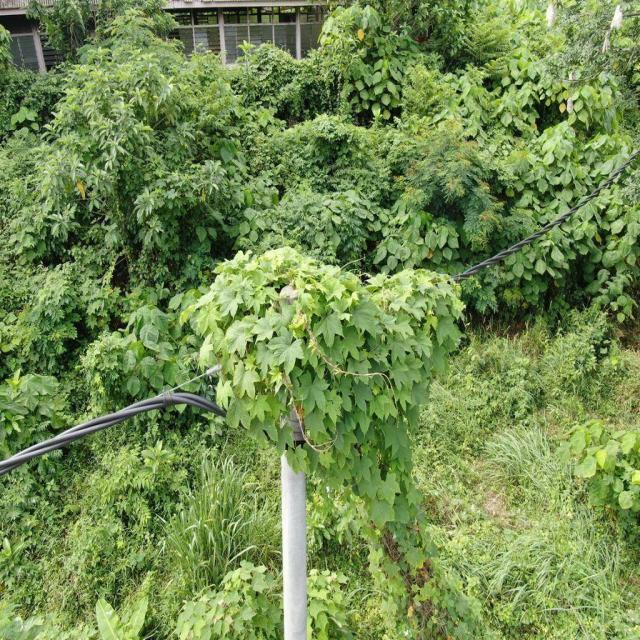critical vegetation: (192, 235, 465, 604)
